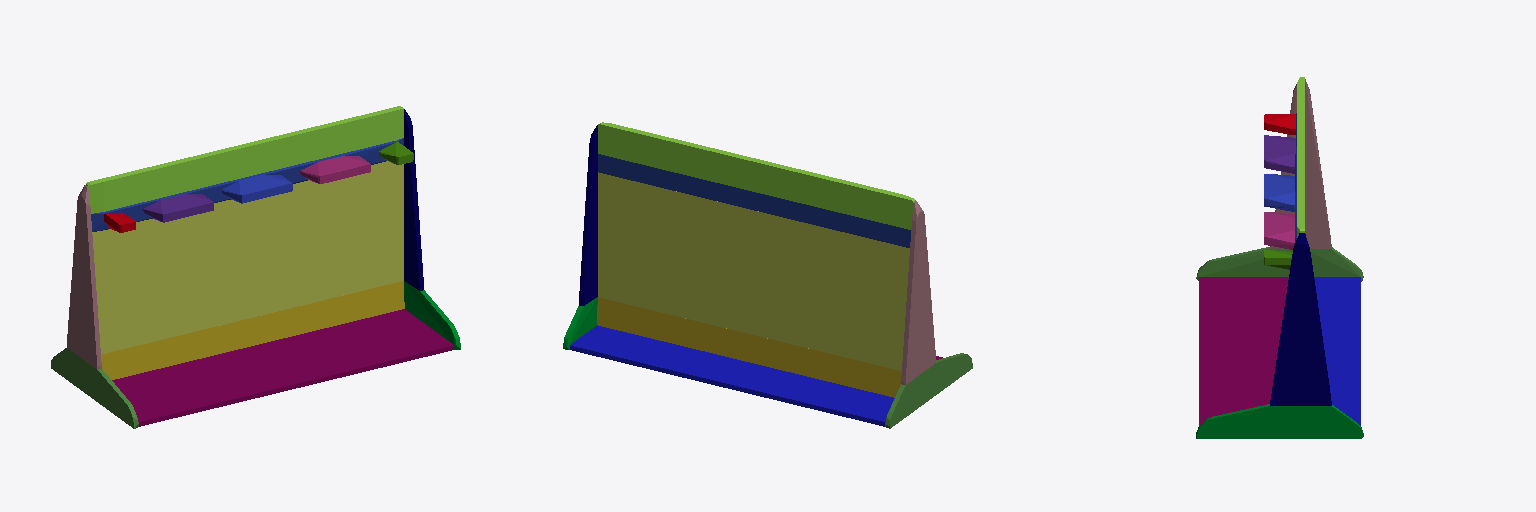
The model's file is Rack_assy.obj.
The picture shows the model from 3 angles: view 1: azimuth 30°, elevation 25°; view 2: azimuth 150°, elevation 25°; view 3: azimuth 270°, elevation 25°; orthographic projection.
Parts seen in each view (by area): view 1: Shape_IndexedFaceSet.005_Shape_IndexedFaceSet.121, Shape_IndexedFaceSet.003_Shape_IndexedFaceSet.119, Shape_IndexedFaceSet.012_Shape_IndexedFaceSet.128, Shape_IndexedFaceSet.008_Shape_IndexedFaceSet.124, Shape_IndexedFaceSet.002_Shape_IndexedFaceSet.118, Shape_IndexedFaceSet_Shape_IndexedFaceSet.116, Shape_IndexedFaceSet.014_Shape_IndexedFaceSet.130, Shape_IndexedFaceSet.007_Shape_IndexedFaceSet.123, Shape_IndexedFaceSet.001_Shape_IndexedFaceSet.117, Shape_IndexedFaceSet.006_Shape_IndexedFaceSet.122, Shape_IndexedFaceSet.010_Shape_IndexedFaceSet.126, Shape_IndexedFaceSet.004_Shape_IndexedFaceSet.120 (+1 smaller); view 2: Shape_IndexedFaceSet.005_Shape_IndexedFaceSet.121, Shape_IndexedFaceSet.012_Shape_IndexedFaceSet.128, Shape_IndexedFaceSet.009_Shape_IndexedFaceSet.125, Shape_IndexedFaceSet.008_Shape_IndexedFaceSet.124, Shape_IndexedFaceSet.014_Shape_IndexedFaceSet.130, Shape_IndexedFaceSet.002_Shape_IndexedFaceSet.118, Shape_IndexedFaceSet_Shape_IndexedFaceSet.116, Shape_IndexedFaceSet.007_Shape_IndexedFaceSet.123, Shape_IndexedFaceSet.001_Shape_IndexedFaceSet.117; view 3: Shape_IndexedFaceSet.003_Shape_IndexedFaceSet.119, Shape_IndexedFaceSet.007_Shape_IndexedFaceSet.123, Shape_IndexedFaceSet.009_Shape_IndexedFaceSet.125, Shape_IndexedFaceSet.001_Shape_IndexedFaceSet.117, Shape_IndexedFaceSet_Shape_IndexedFaceSet.116, Shape_IndexedFaceSet.002_Shape_IndexedFaceSet.118, Shape_IndexedFaceSet.012_Shape_IndexedFaceSet.128, Shape_IndexedFaceSet.010_Shape_IndexedFaceSet.126, Shape_IndexedFaceSet.006_Shape_IndexedFaceSet.122, Shape_IndexedFaceSet.004_Shape_IndexedFaceSet.120, Shape_IndexedFaceSet.013_Shape_IndexedFaceSet.129.
Boxes of the visible parts, x1=… form: Shape_IndexedFaceSet.005_Shape_IndexedFaceSet.121: x1=92, y1=161, x2=403, y2=354; Shape_IndexedFaceSet.003_Shape_IndexedFaceSet.119: x1=112, y1=309, x2=453, y2=426; Shape_IndexedFaceSet.012_Shape_IndexedFaceSet.128: x1=86, y1=106, x2=403, y2=213; Shape_IndexedFaceSet.008_Shape_IndexedFaceSet.124: x1=101, y1=281, x2=404, y2=379; Shape_IndexedFaceSet.002_Shape_IndexedFaceSet.118: x1=67, y1=185, x2=101, y2=369; Shape_IndexedFaceSet_Shape_IndexedFaceSet.116: x1=51, y1=348, x2=138, y2=428; Shape_IndexedFaceSet.014_Shape_IndexedFaceSet.130: x1=91, y1=138, x2=403, y2=231; Shape_IndexedFaceSet.007_Shape_IndexedFaceSet.123: x1=404, y1=109, x2=423, y2=290; Shape_IndexedFaceSet.001_Shape_IndexedFaceSet.117: x1=404, y1=281, x2=460, y2=349; Shape_IndexedFaceSet.006_Shape_IndexedFaceSet.122: x1=222, y1=175, x2=292, y2=203; Shape_IndexedFaceSet.010_Shape_IndexedFaceSet.126: x1=143, y1=194, x2=213, y2=222; Shape_IndexedFaceSet.004_Shape_IndexedFaceSet.120: x1=300, y1=156, x2=370, y2=183; Shape_IndexedFaceSet.005_Shape_IndexedFaceSet.121: x1=598, y1=172, x2=909, y2=370; Shape_IndexedFaceSet.012_Shape_IndexedFaceSet.128: x1=598, y1=122, x2=915, y2=229; Shape_IndexedFaceSet.009_Shape_IndexedFaceSet.125: x1=570, y1=325, x2=894, y2=426; Shape_IndexedFaceSet.008_Shape_IndexedFaceSet.124: x1=597, y1=297, x2=901, y2=397; Shape_IndexedFaceSet.014_Shape_IndexedFaceSet.130: x1=598, y1=154, x2=910, y2=247; Shape_IndexedFaceSet.002_Shape_IndexedFaceSet.118: x1=901, y1=201, x2=935, y2=384; Shape_IndexedFaceSet_Shape_IndexedFaceSet.116: x1=885, y1=353, x2=972, y2=428; Shape_IndexedFaceSet.007_Shape_IndexedFaceSet.123: x1=579, y1=125, x2=597, y2=305; Shape_IndexedFaceSet.001_Shape_IndexedFaceSet.117: x1=563, y1=297, x2=597, y2=349; Shape_IndexedFaceSet.003_Shape_IndexedFaceSet.119: x1=1199, y1=277, x2=1288, y2=425; Shape_IndexedFaceSet.007_Shape_IndexedFaceSet.123: x1=1270, y1=233, x2=1331, y2=405; Shape_IndexedFaceSet.009_Shape_IndexedFaceSet.125: x1=1314, y1=277, x2=1360, y2=425; Shape_IndexedFaceSet.001_Shape_IndexedFaceSet.117: x1=1196, y1=404, x2=1363, y2=438; Shape_IndexedFaceSet_Shape_IndexedFaceSet.116: x1=1196, y1=247, x2=1363, y2=281; Shape_IndexedFaceSet.002_Shape_IndexedFaceSet.118: x1=1270, y1=79, x2=1331, y2=248; Shape_IndexedFaceSet.012_Shape_IndexedFaceSet.128: x1=1297, y1=77, x2=1304, y2=237; Shape_IndexedFaceSet.010_Shape_IndexedFaceSet.126: x1=1264, y1=135, x2=1295, y2=173; Shape_IndexedFaceSet.006_Shape_IndexedFaceSet.122: x1=1264, y1=174, x2=1294, y2=211; Shape_IndexedFaceSet.004_Shape_IndexedFaceSet.120: x1=1264, y1=212, x2=1294, y2=249; Shape_IndexedFaceSet.013_Shape_IndexedFaceSet.129: x1=1264, y1=114, x2=1295, y2=134.
Bounding box in the file's own units: 0.5017 × 0.3017 × 0.222.